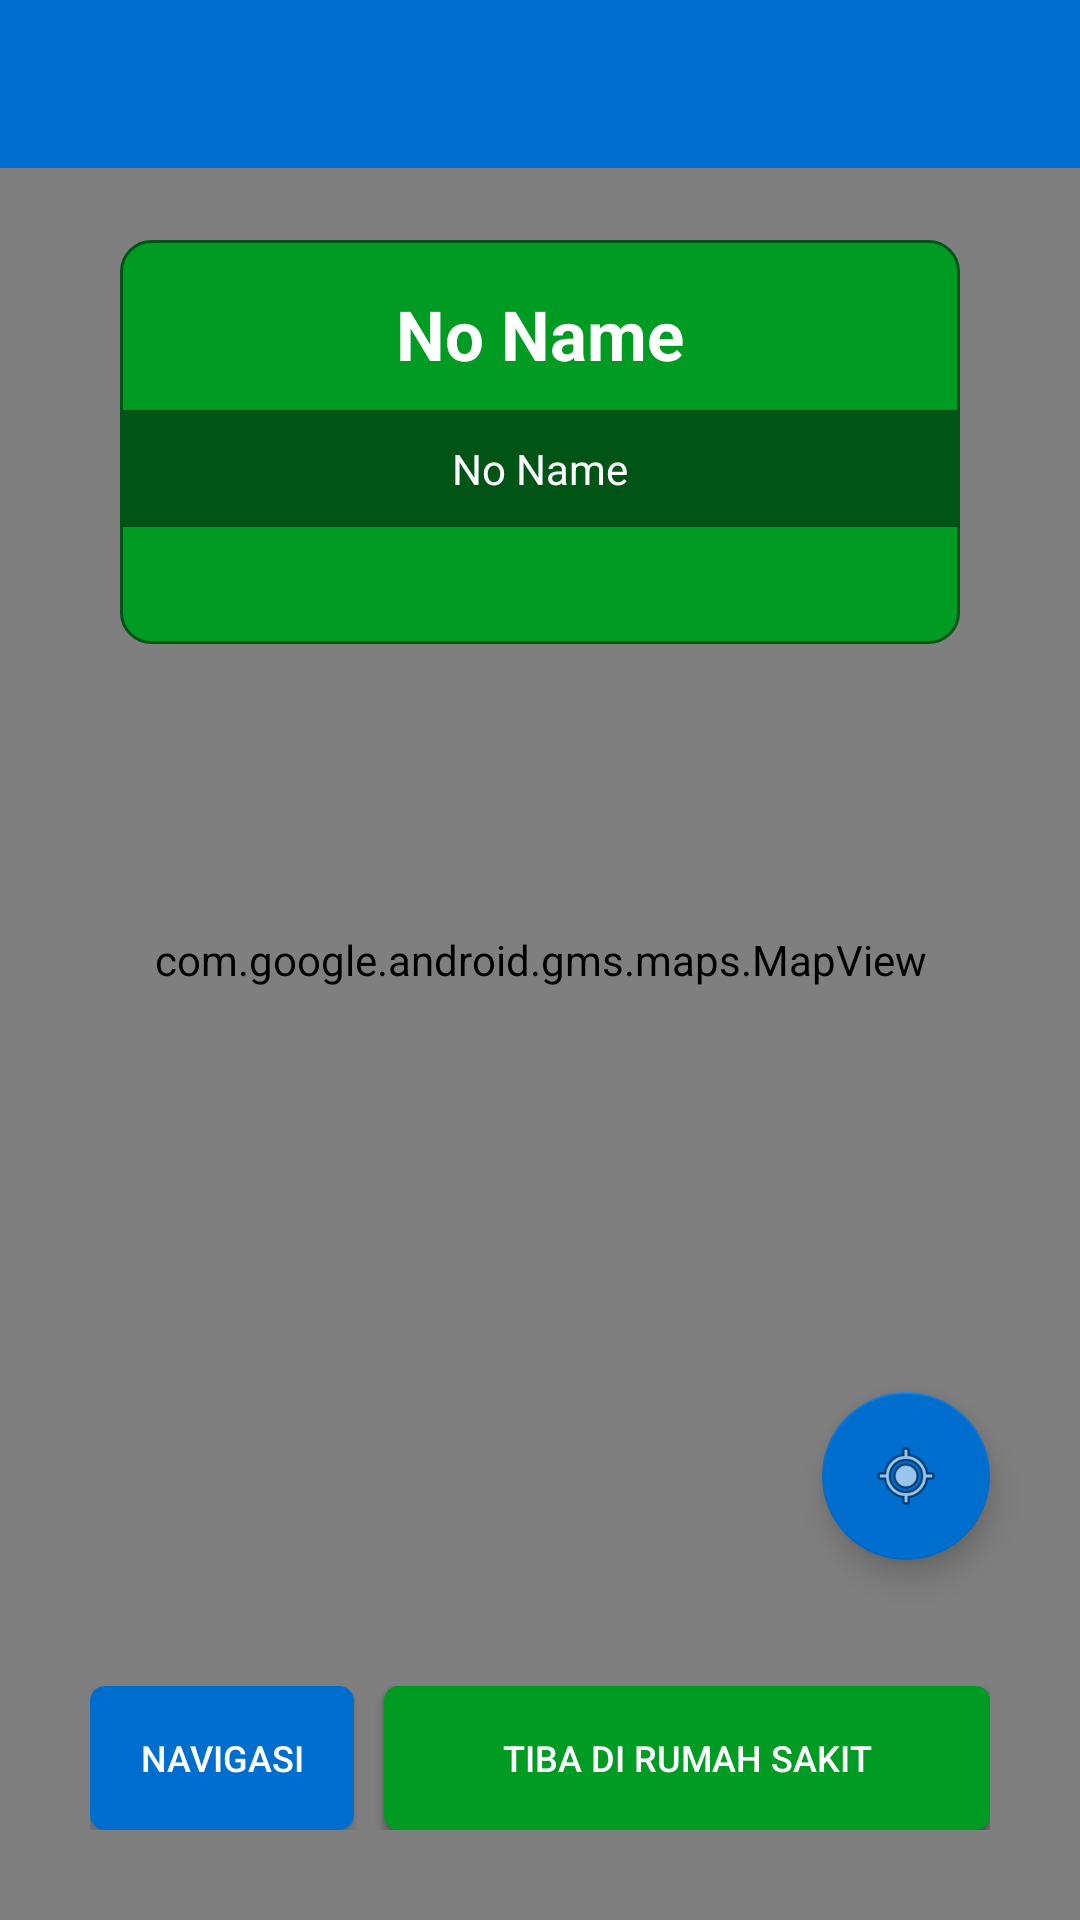

Icons on this 1080w x 1920h Android screen, each with its box as (x1, y1, x2, y2):
mylocation: (822, 1392, 990, 1560)
